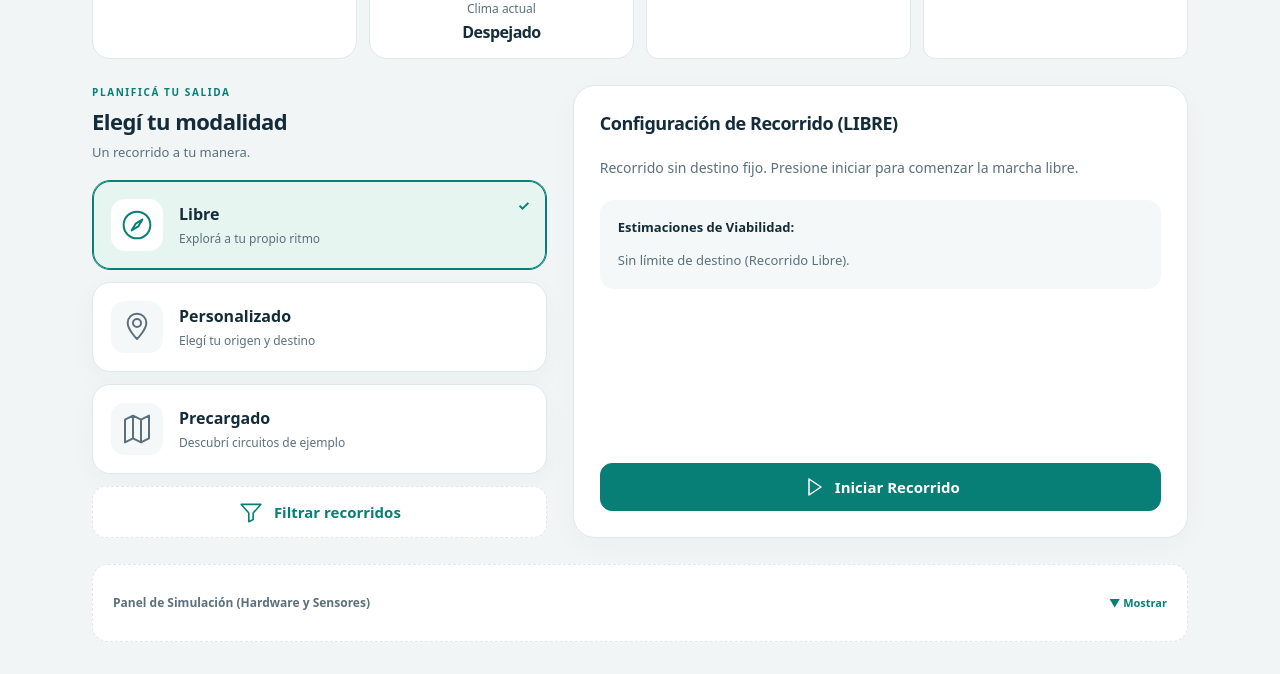
Test: CU-02 Filtrar recorridos (UI) › TC-31/32: el botón está en el panel principal, selecciona Precargado y abre el subpanel
The width and height of the screenshot is (1280, 674).
(page scrolled)
Click the button "Filtrar recorridos" at (319, 512), box [92,486,547,538]
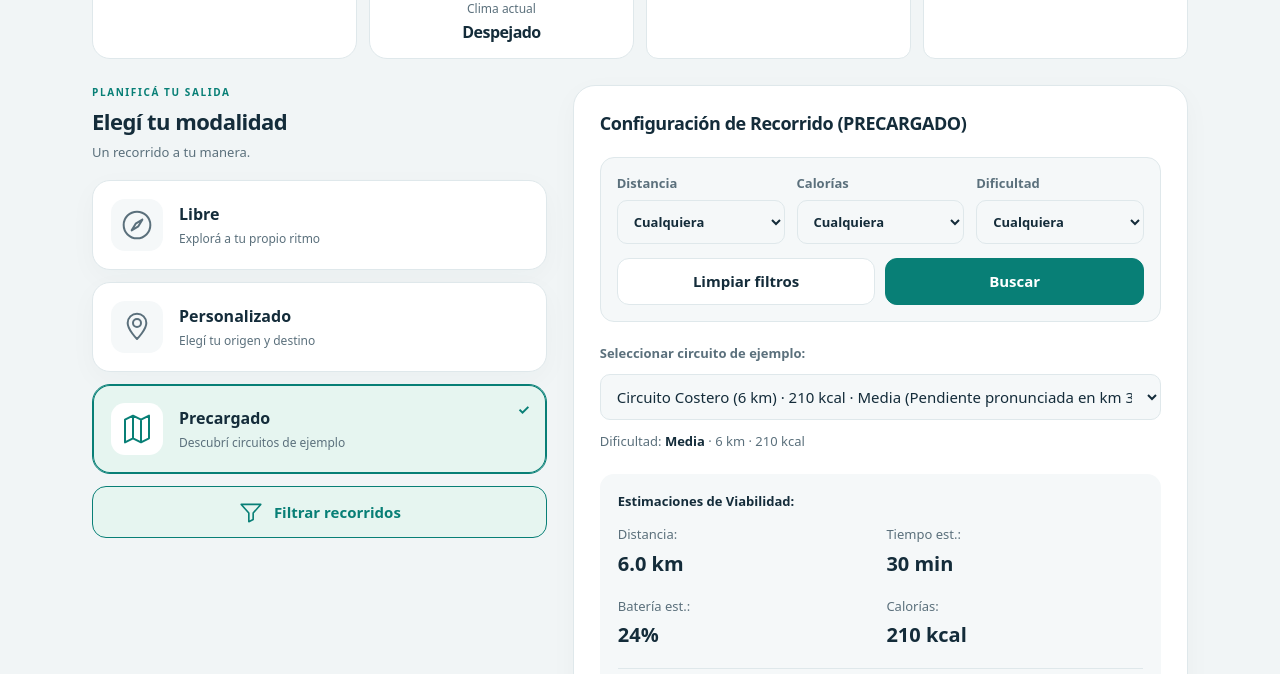
Expected: the button "Filtrar recorridos" is expanded
Expected: the dropdown named "Filtro de dificultad" is shown, [976,200,1144,244]
Expected: the button "Buscar" is shown, [885,258,1144,305]
Click the button "Filtrar recorridos" at (319, 512), box [92,486,547,538]
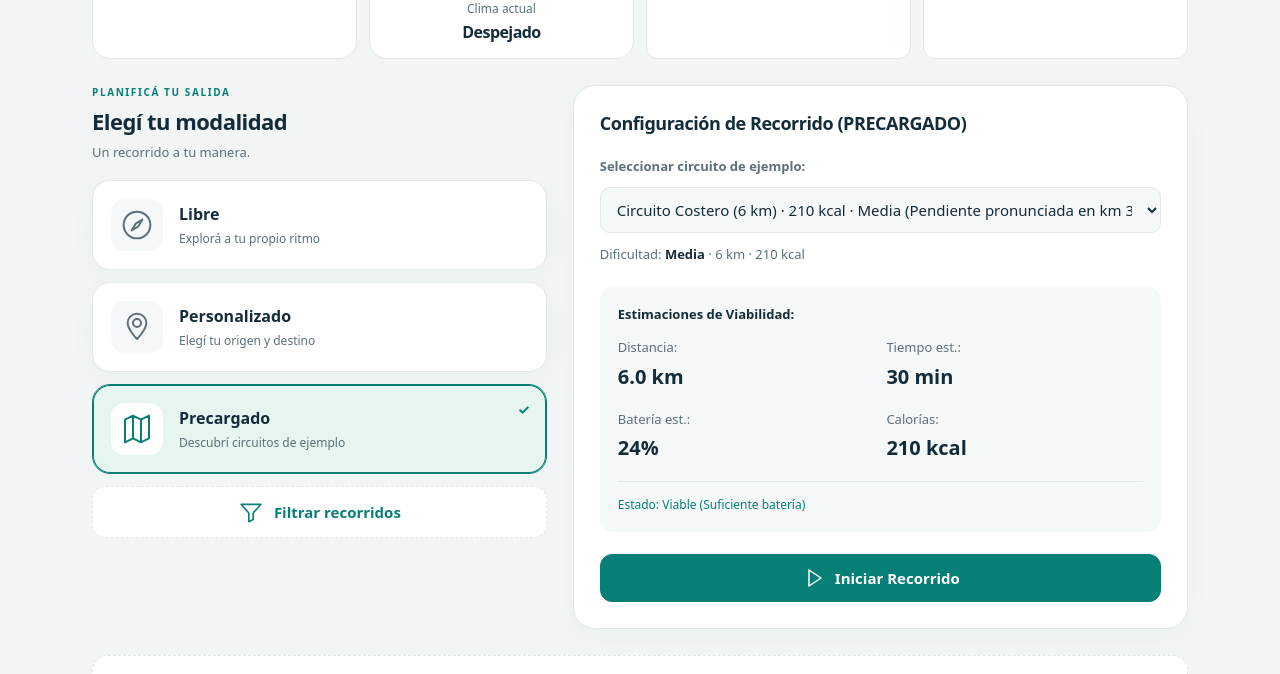
Expected: the button "Filtrar recorridos" is collapsed, [92,486,547,538]
